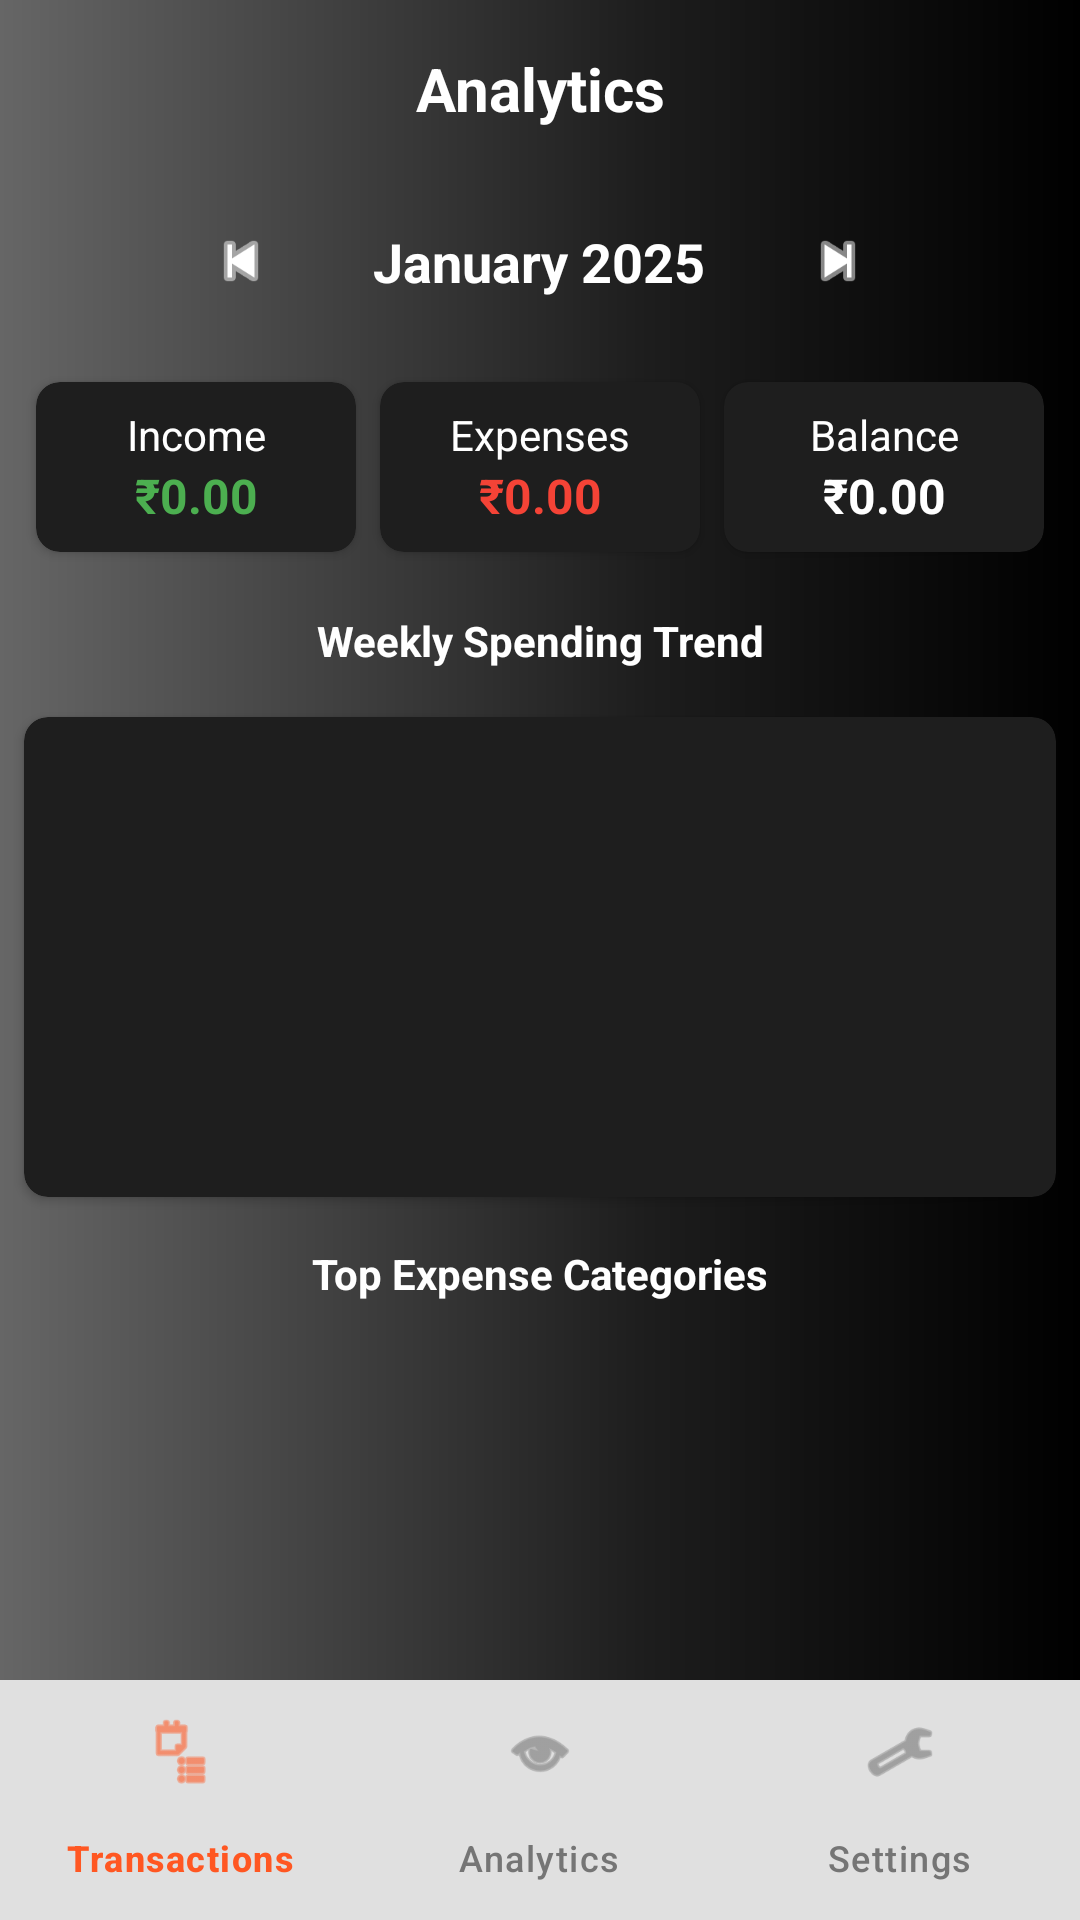

Point at icon controls on the screen. Image size 1080px×1920px, points as point (x, y).
Next Month: point (838, 261)
Previous Month: point (241, 261)
